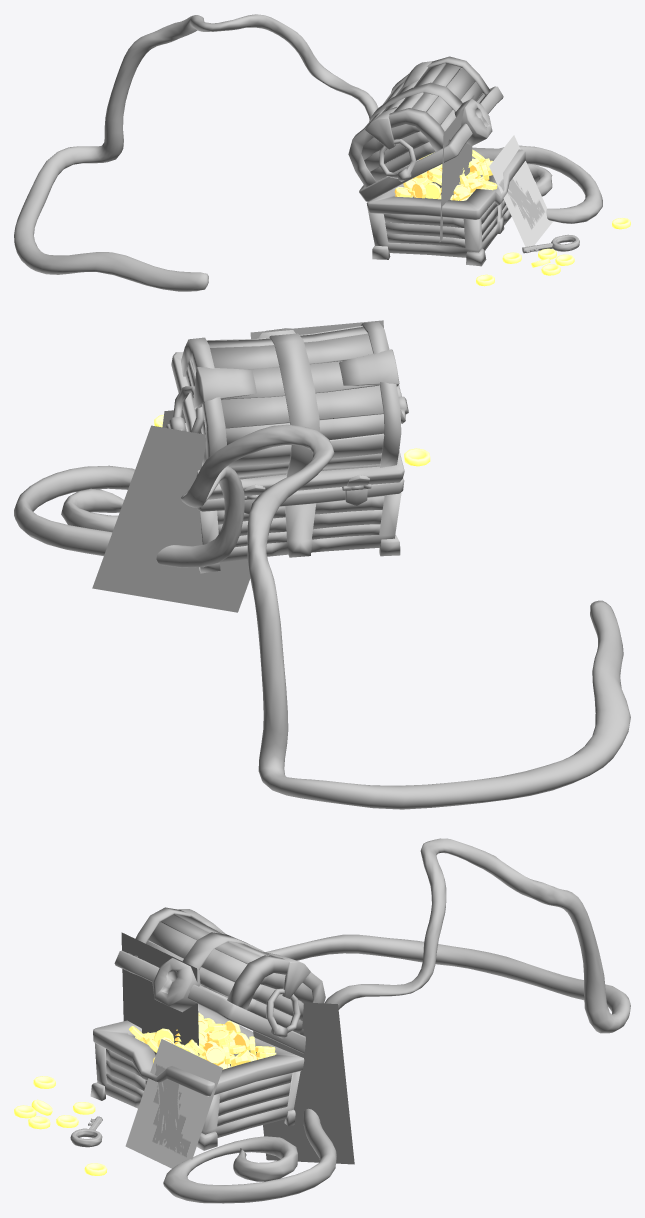
The model's file is chest.fbx.
The picture shows the model from 3 angles, top to bottom: view 1: azimuth 30°, elevation 25°; view 2: azimuth 150°, elevation 25°; view 3: azimuth 270°, elevation 25°; orthographic projection. The views are drawn at different scales.
Parts seen in each view (by area): view 1: ZBrush_defualt_group, Object005, Object006, wood_haut, Plane001_Copy, planche001, pieces_2, Plane001, pieces, anneau, key_Copy; view 2: ZBrush_defualt_group, Object005, Plane001_Copy_Copy, wood_haut, Object006, planche001, anneau; view 3: ZBrush_defualt_group, Object005, Object006, Plane001_Copy_Copy, Plane001_Copy, wood_haut, Plane001, planche001, pieces_2, pieces, anneau, key_Copy.
Part boxes in pixels (box(x1,y1,x2,y2)): ZBrush_defualt_group: box(14, 14, 602, 291); Object005: box(348, 56, 503, 201); Object006: box(366, 147, 525, 266); wood_haut: box(361, 63, 485, 181); Plane001_Copy: box(489, 135, 552, 246); planche001: box(383, 200, 508, 247); pieces_2: box(394, 149, 497, 200); Plane001: box(439, 95, 474, 242); pieces: box(476, 218, 630, 286); anneau: box(379, 139, 416, 181); key_Copy: box(522, 234, 579, 253); ZBrush_defualt_group: box(14, 424, 630, 809); Object005: box(171, 322, 404, 514); Plane001_Copy_Copy: box(92, 425, 250, 612); wood_haut: box(185, 326, 384, 479); Object006: box(166, 423, 404, 573); planche001: box(217, 496, 384, 547); anneau: box(169, 385, 408, 433); ZBrush_defualt_group: box(163, 838, 630, 1203); Object005: box(114, 907, 325, 1053); Object006: box(90, 1004, 304, 1150); Plane001_Copy_Copy: box(253, 1000, 354, 1164); Plane001_Copy: box(125, 1039, 222, 1168); wood_haut: box(146, 914, 313, 1033); Plane001: box(121, 932, 199, 1055); planche001: box(106, 1049, 292, 1126); pieces_2: box(129, 1012, 276, 1069); pieces: box(14, 1076, 107, 1175); anneau: box(266, 988, 300, 1038); key_Copy: box(70, 1116, 102, 1147).
Size of the model in its own units: 304 by 127 by 287.
